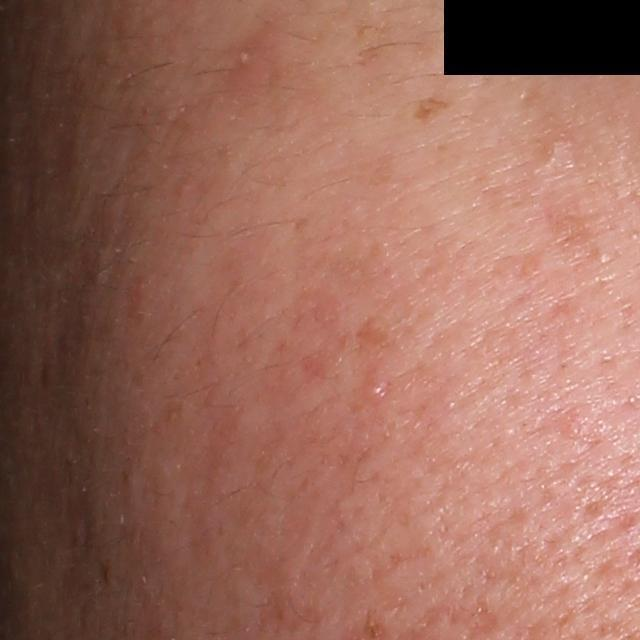comedo: (360, 375, 392, 398)
melasma: (410, 94, 461, 129)
